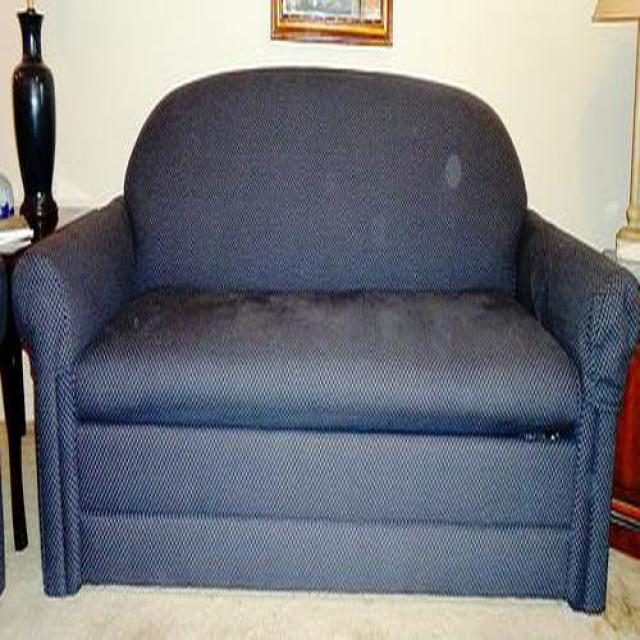sofa: (0, 69, 640, 640)
